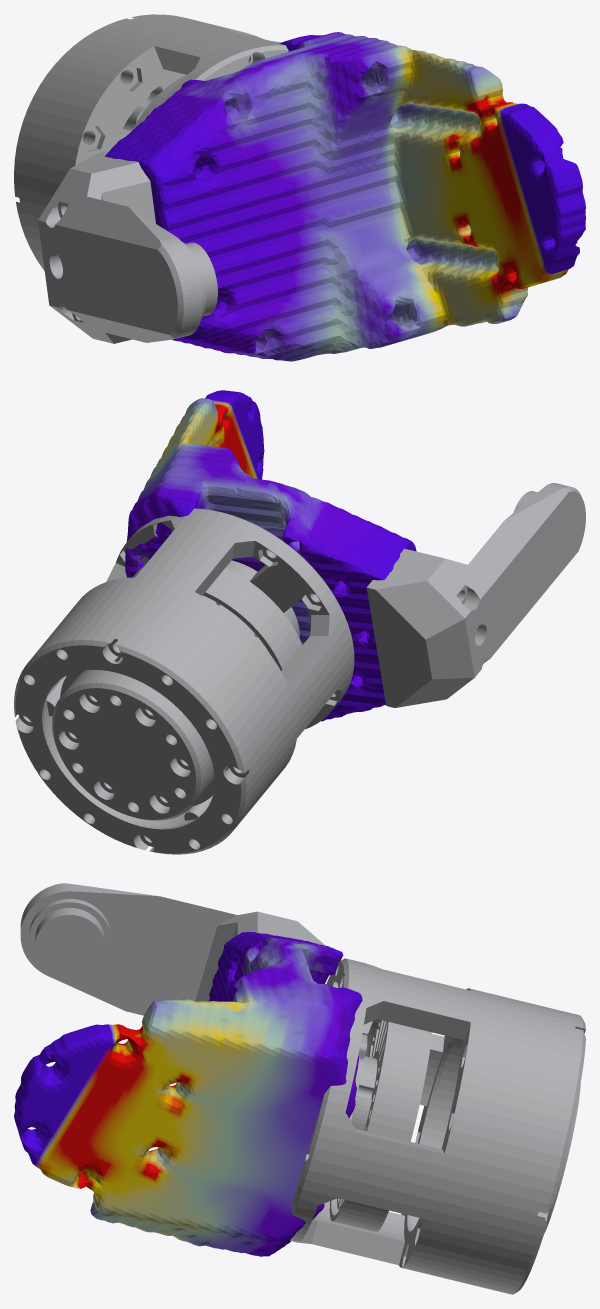
Rendered from arm_right_shoulder_roll_opt.glb.
3 renders of one model, top to bottom at view 1: azimuth 30°, elevation 25°; view 2: azimuth 150°, elevation 25°; view 3: azimuth 270°, elevation 25°, orthographic. The views are drawn at different scales.
Visible parts, largest first — view 1: arm_right_shoulder_roll_visual.stl; view 2: arm_right_shoulder_roll_visual.stl; view 3: arm_right_shoulder_roll_visual.stl.
Part boxes in pixels (box(x1,y1,x2,y2)): arm_right_shoulder_roll_visual.stl: box(14, 14, 585, 361); arm_right_shoulder_roll_visual.stl: box(14, 390, 585, 854); arm_right_shoulder_roll_visual.stl: box(14, 883, 585, 1294).
Size of the model in its own units: 0.1072 by 0.0896 by 0.1392.
